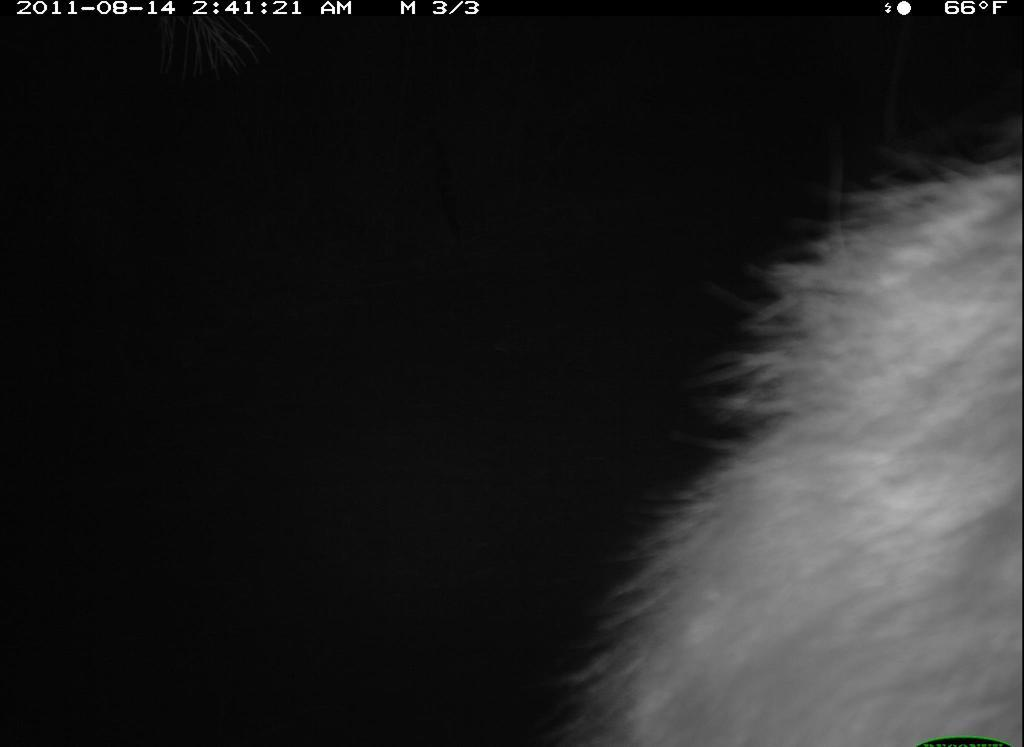raccoon: (559, 132, 1024, 747)
